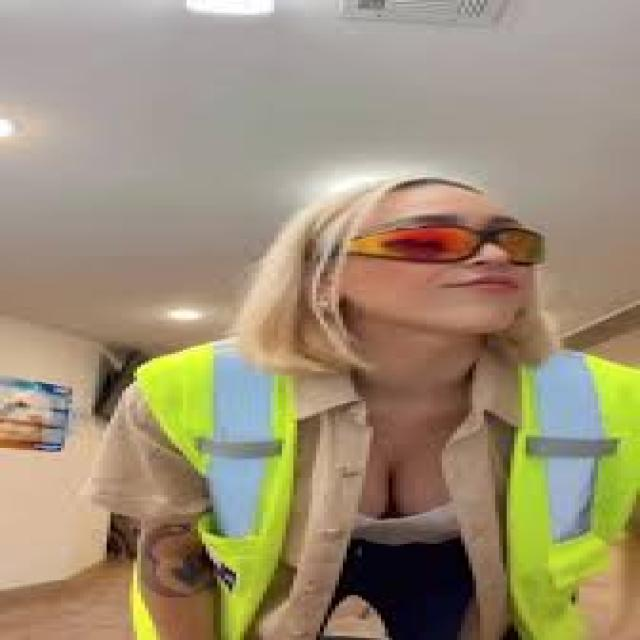Reflective Vest: (114, 339, 640, 640)
Safety Glasses: (296, 219, 566, 275)
